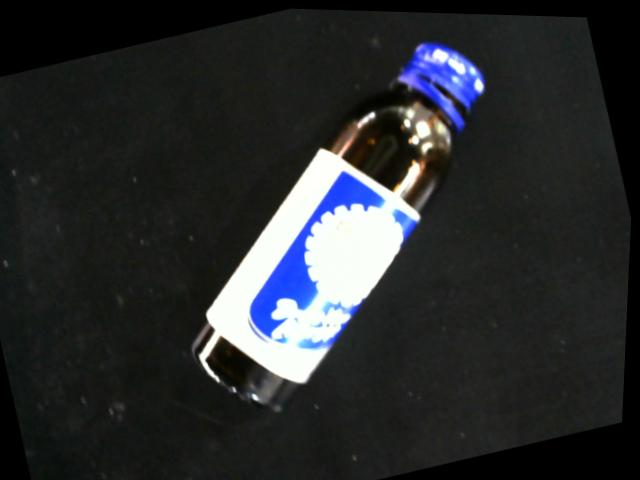glass: (186, 35, 493, 419)
